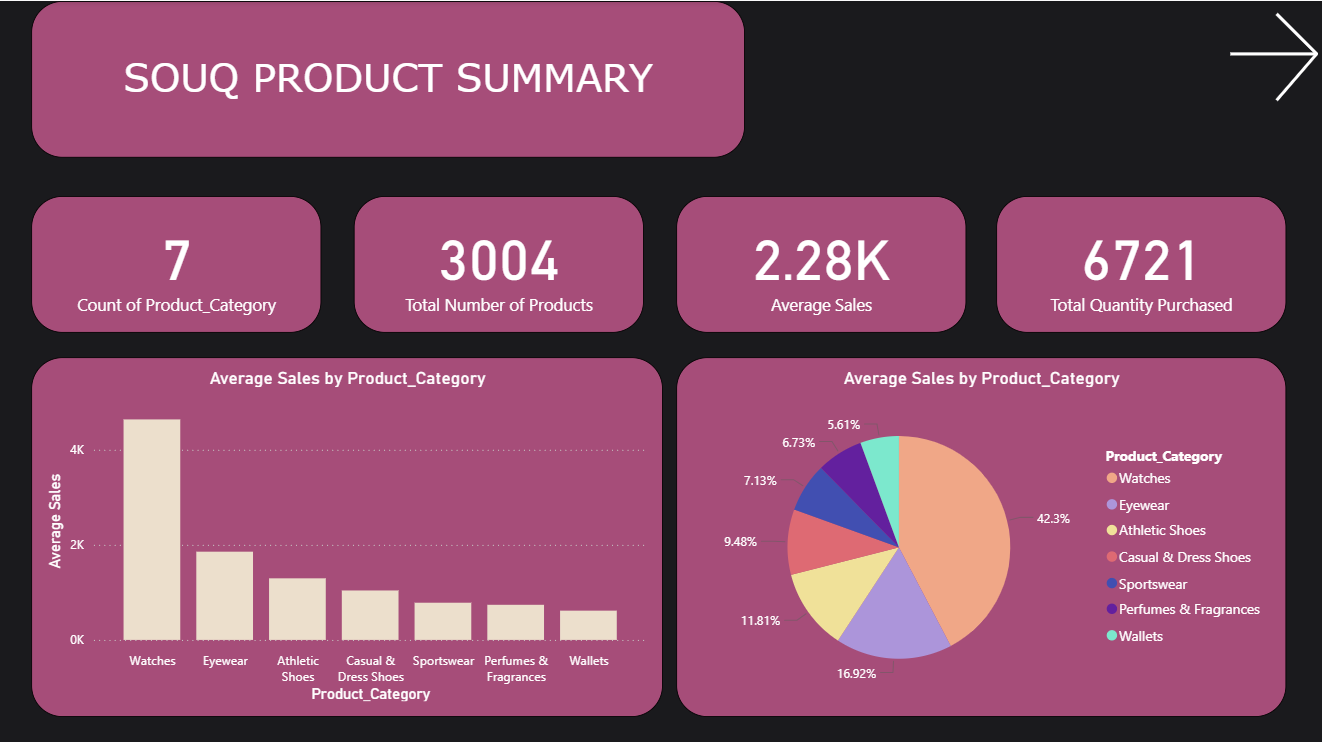

The page's visual inventory and layout, read from the dashboard file:
{"tool":"powerbi","page":{"name":"Product Summary","canvas":[1280,720],"ordinal":1},"visuals":[{"type":"card","fields":{"Values":["_Measures.Total Number of Products"]},"box":[341.4,188.7,280,131.8],"z":0},{"type":"card","fields":{"Values":["Count(Products.Product_Category)"]},"box":[29.9,188.7,280,131.8],"z":1000},{"type":"card","fields":{"Values":["_Measures.Average Sales"]},"box":[652.9,188.7,280,131.8],"z":2000},{"type":"card","fields":{"Values":["_Measures.Total Quantity Purchased"]},"box":[961.4,188.7,280,131.8],"z":3000},{"type":"textbox","box":[29.9,0,688.8,151.2],"z":4000},{"type":"columnChart","fields":{"Category":["Products.Product_Category"],"Y":["_Measures.Average Sales"]},"box":[29.9,344.4,609.5,347.4],"z":5000},{"type":"pieChart","fields":{"Y":["_Measures.Average Sales"],"Category":["Products.Product_Category"]},"box":[652.9,344.4,588.5,347.4],"z":6000},{"type":"actionButton","box":[1177,0,103.3,107.8],"z":6001}]}

Visuals, with their boxes in screenshot pixels (x1, y1, x2, y2), scaled from the page's 1280x720 canvas onto the 1322x742 screenshot:
card - _Measures.Total Number of Products: <bbox>353, 194, 642, 330</bbox>
card - Count(Products.Product_Category): <bbox>31, 194, 320, 330</bbox>
card - _Measures.Average Sales: <bbox>674, 194, 964, 330</bbox>
card - _Measures.Total Quantity Purchased: <bbox>993, 194, 1282, 330</bbox>
textbox: <bbox>31, 0, 742, 156</bbox>
columnChart - Products.Product_Category x _Measures.Average Sales: <bbox>31, 355, 660, 713</bbox>
pieChart - _Measures.Average Sales x Products.Product_Category: <bbox>674, 355, 1282, 713</bbox>
actionButton: <bbox>1216, 0, 1321, 111</bbox>
